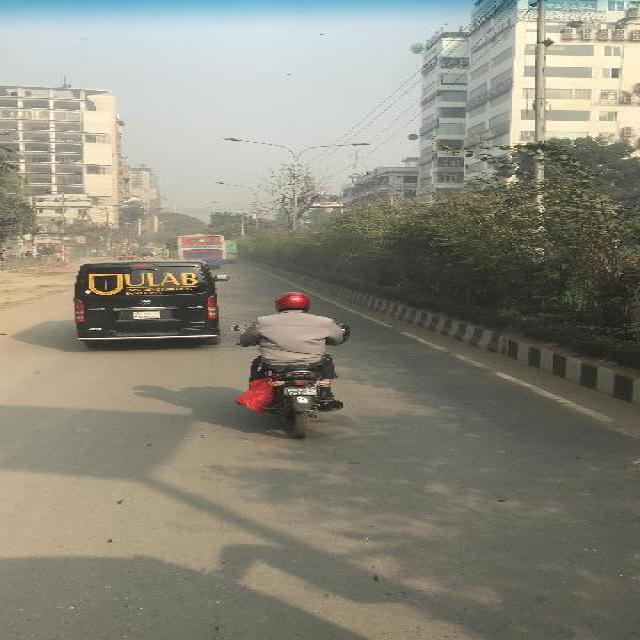bus: (167, 232, 228, 264), (225, 238, 237, 260), (160, 244, 167, 258)
car: (150, 248, 156, 254)
motorbike: (228, 288, 358, 442), (141, 254, 154, 258)
rickshaw: (117, 253, 139, 260), (113, 249, 122, 259), (140, 252, 152, 256)
van: (75, 262, 231, 351)
